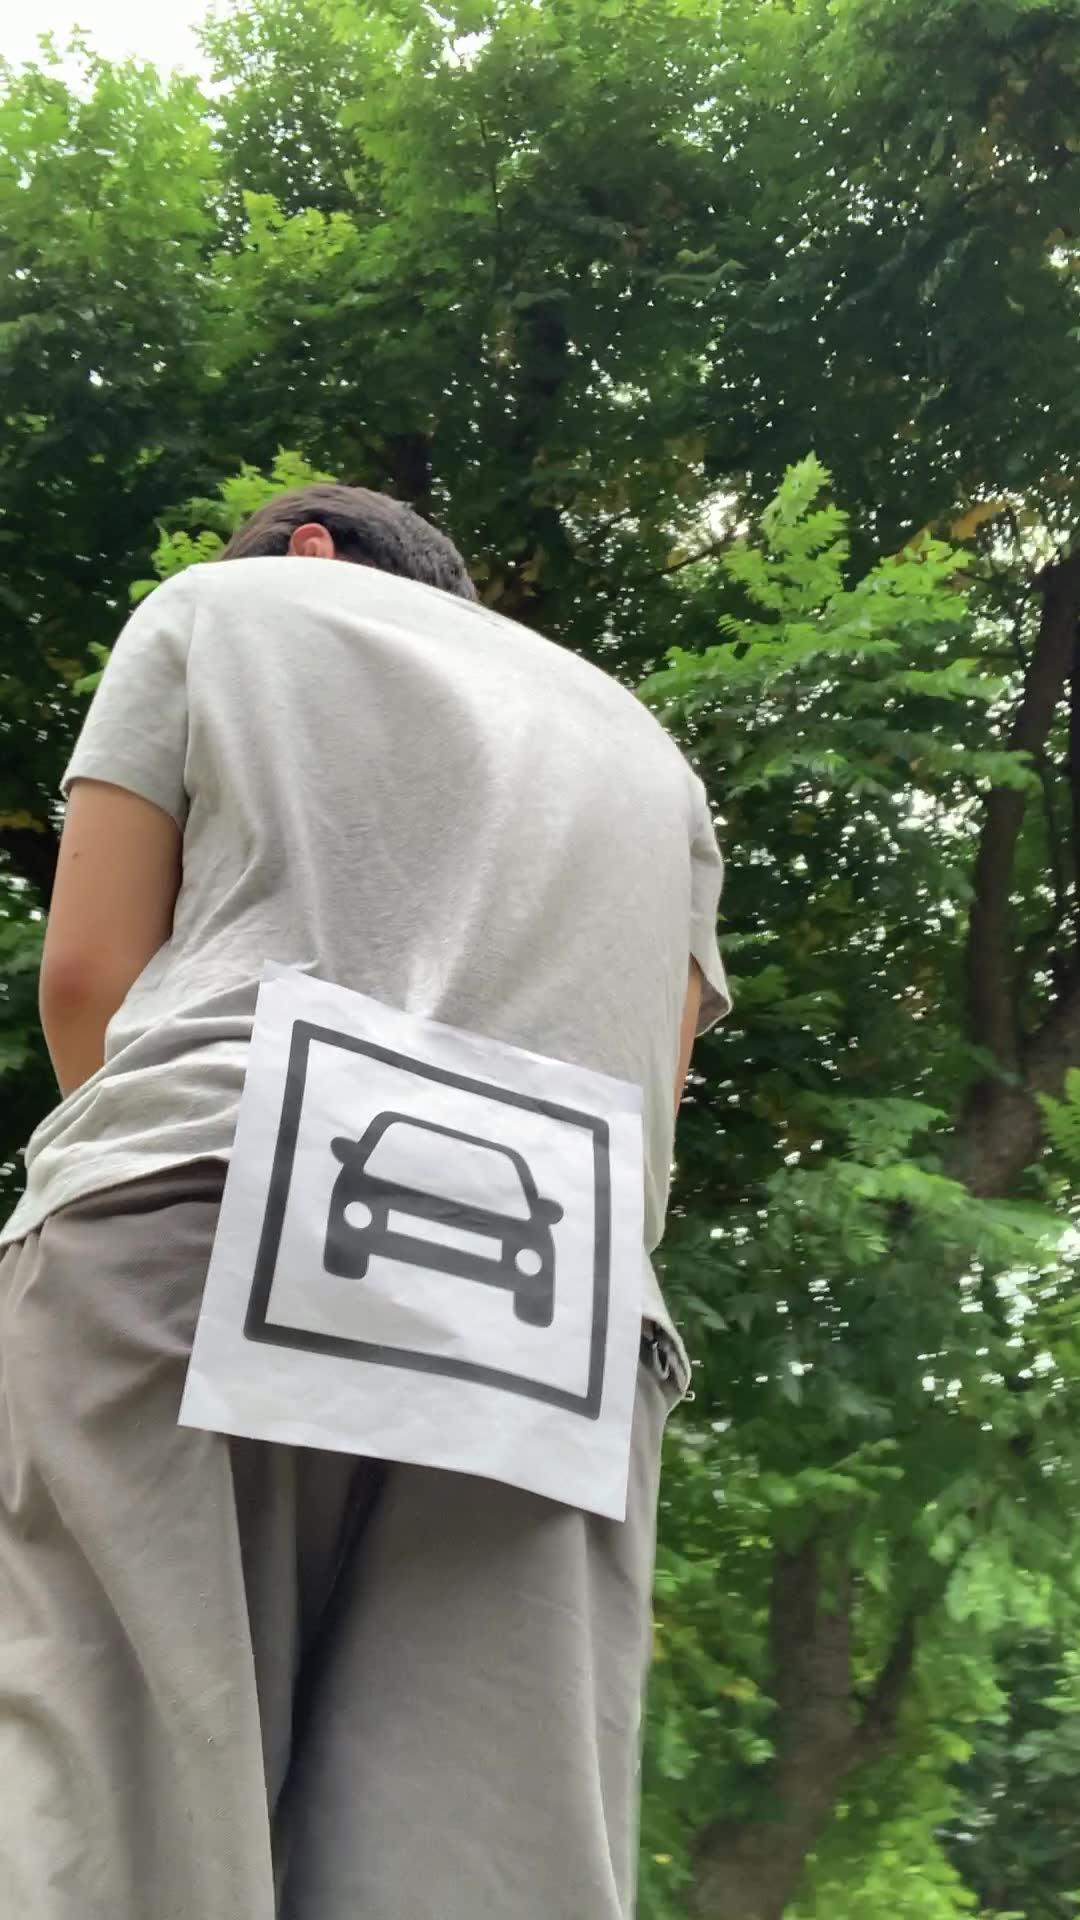car_img: (243, 1017, 613, 1422)
